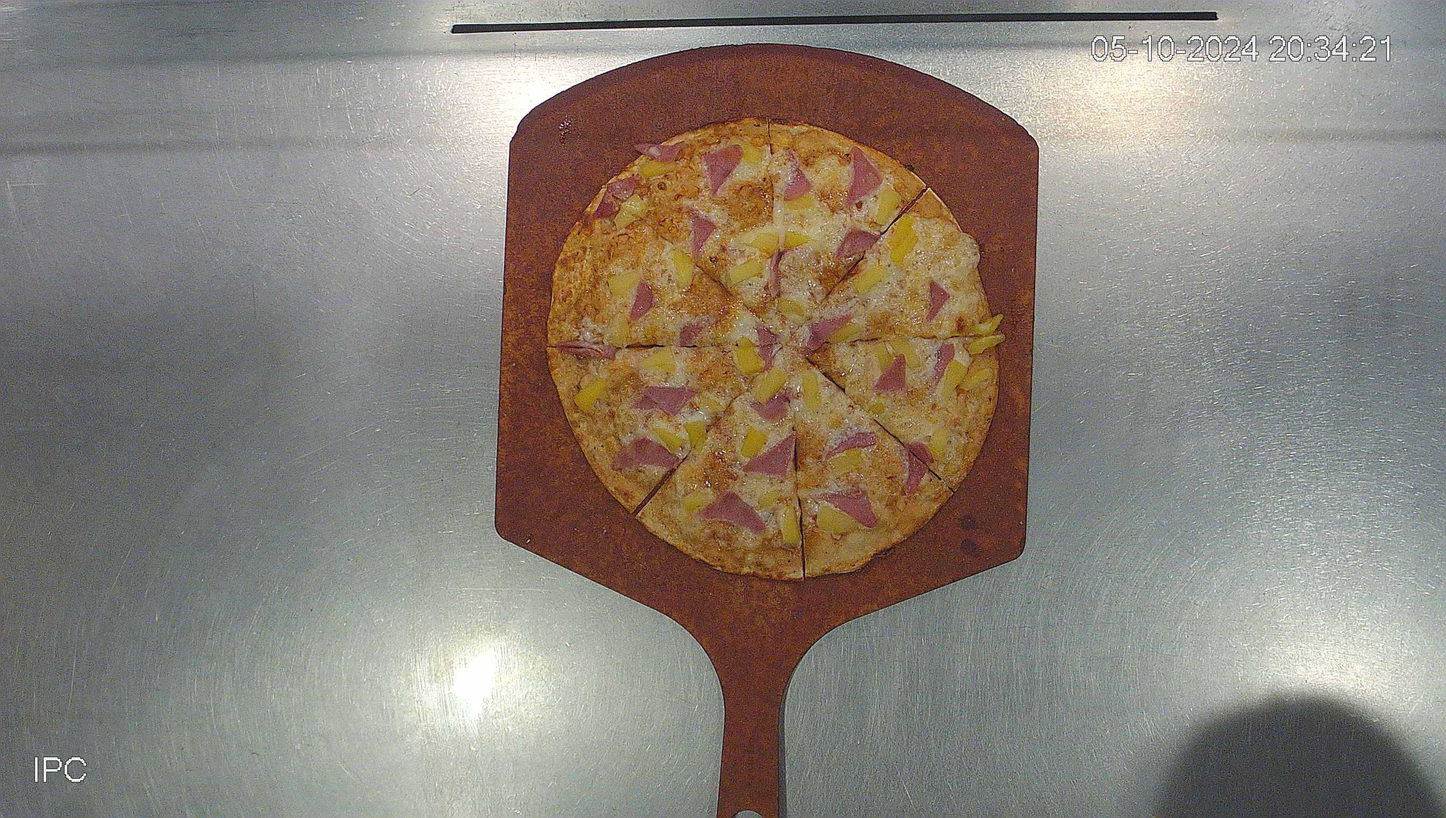manager_choice: (545, 118, 1004, 582)
